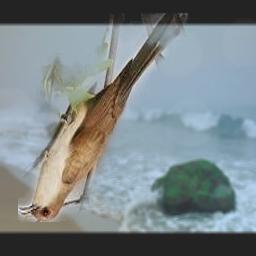Cuckoo: (18, 13, 188, 222)
